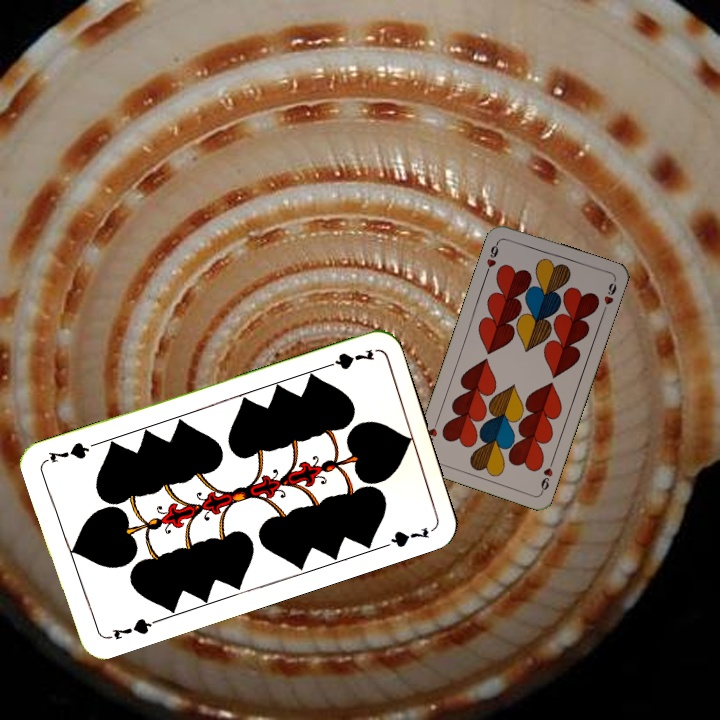G7: (102, 614, 160, 642), (318, 345, 377, 372)
H9: (537, 455, 556, 495), (482, 237, 501, 277)
